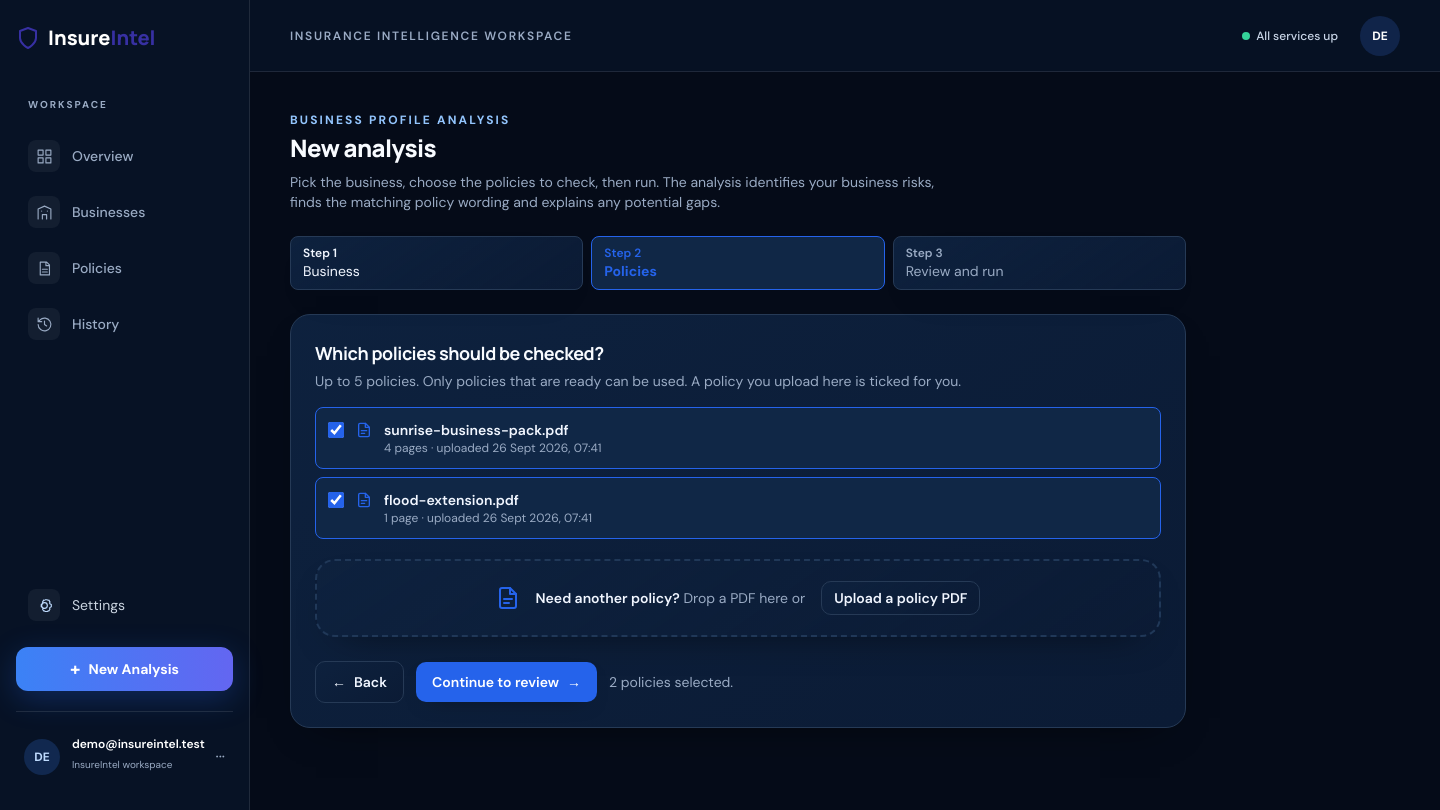
Test case: new analysis: step 2, the policies › needs at least one policy to continue
The width and height of the screenshot is (1440, 810).
Expected: the heading "New analysis" is shown, top-left (290, 131), bottom-right (436, 164)
Click the checkbox labelled "sunrise-business-pack.pdf".
click(336, 430)  # box top-left (328, 422), bottom-right (344, 438)
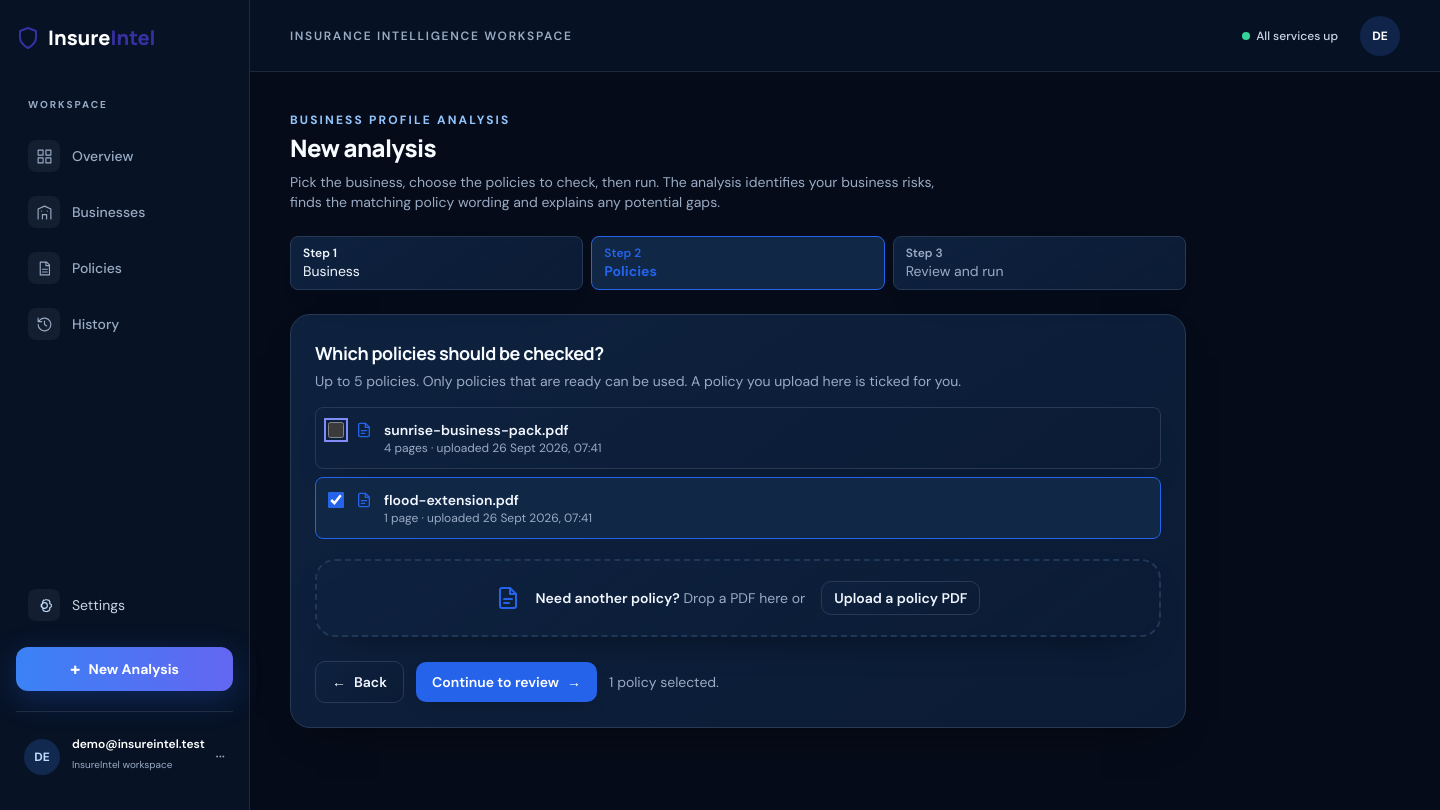
Click the checkbox labelled "flood-extension.pdf 1 page · uploaded 26 Sept 2026, 07:41".
click(336, 500)  # box top-left (328, 492), bottom-right (344, 508)
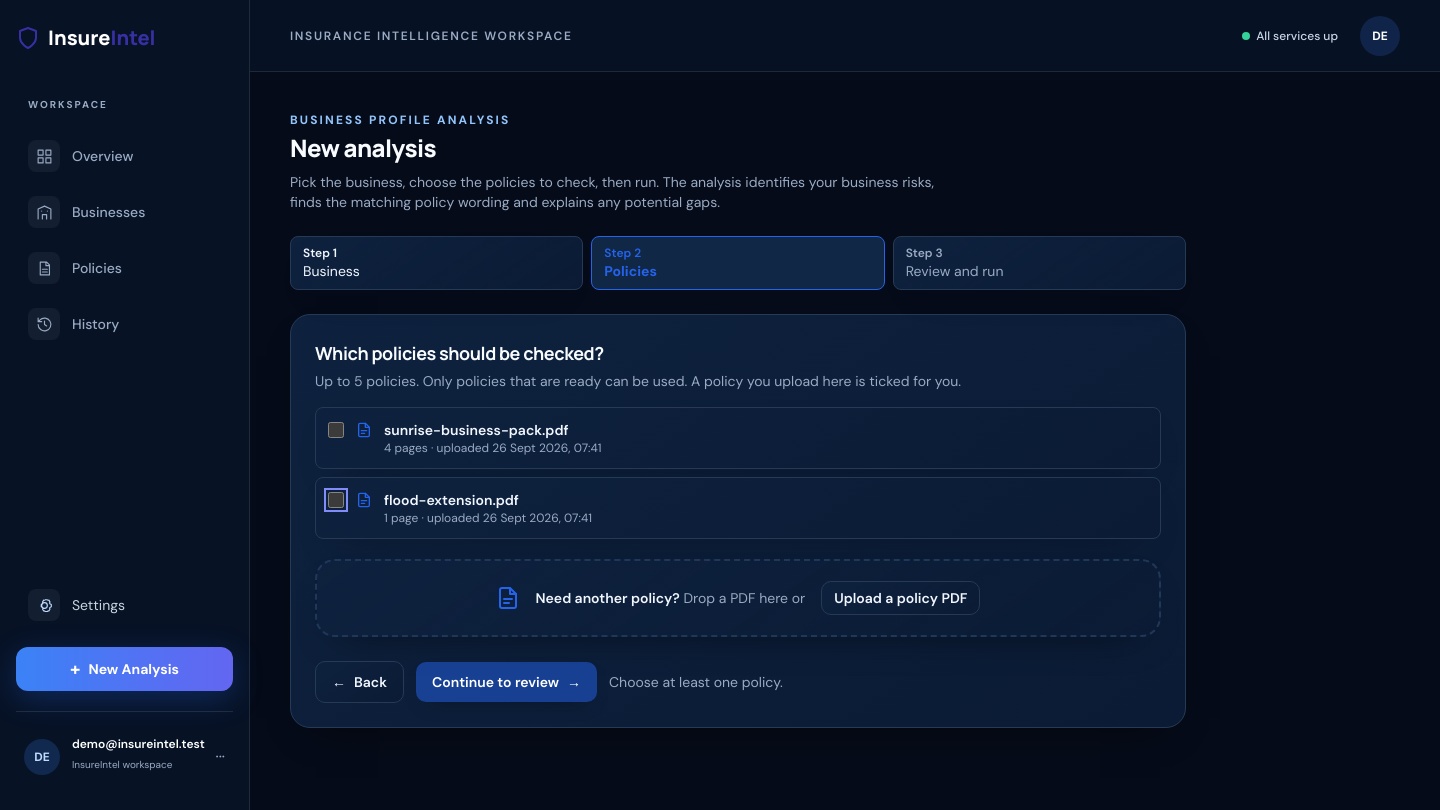
Expected: the button "Continue to review →" is disabled, top-left (416, 662), bottom-right (597, 702)
Expected: the text "Choose at least one policy." is shown, top-left (609, 672), bottom-right (783, 692)
